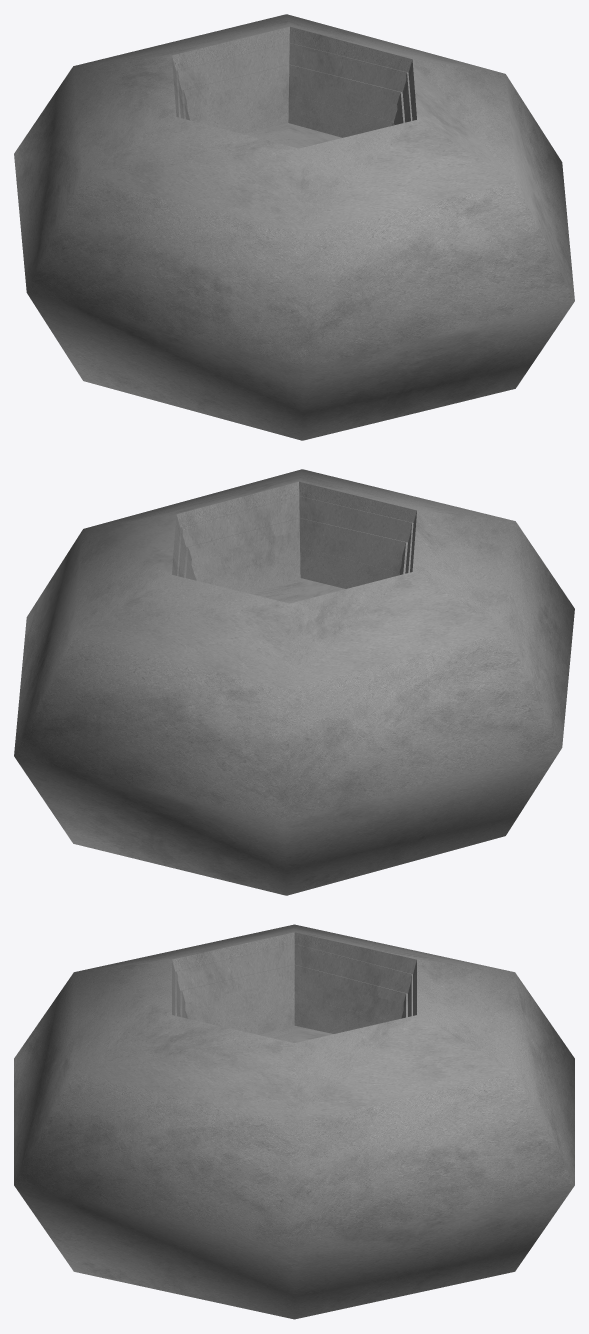
The model's file is ecrou.fbx.
The picture shows the model from 3 angles, top to bottom: view 1: azimuth 30°, elevation 25°; view 2: azimuth 150°, elevation 25°; view 3: azimuth 270°, elevation 25°; orthographic projection. The views are drawn at different scales.
Visible parts, largest first — view 1: pasted__pasted__pasted__pasted__pSphere3; view 2: pasted__pasted__pasted__pasted__pSphere3; view 3: pasted__pasted__pasted__pasted__pSphere3.
Boxes of the visible parts, x1,y1,x2,y2 form: pasted__pasted__pasted__pasted__pSphere3: (14, 14, 574, 440); pasted__pasted__pasted__pasted__pSphere3: (14, 469, 574, 895); pasted__pasted__pasted__pasted__pSphere3: (14, 924, 574, 1319).
Bounding box in the file's own units: 3.16 × 1.66 × 2.98.
Materials: 1 (1 with a texture image).
